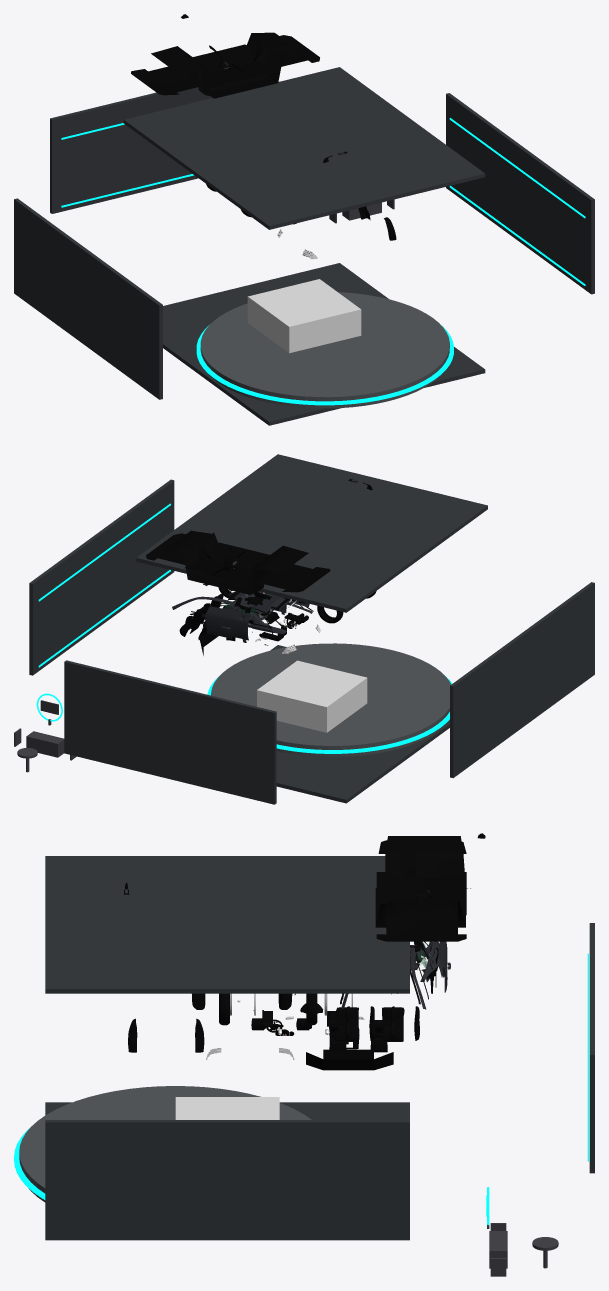
The model's file is garage-with-accord.glb.
3 views of the same model, one above another, from view 1: azimuth 30°, elevation 25°; view 2: azimuth 150°, elevation 25°; view 3: azimuth 270°, elevation 25° (orthographic). The views are drawn at different scales.
Visible parts, largest first — view 1: Ceiling, VehiclePlatform, WallLeft, WallRight, WallBack, Floor, Cube, Bottom, Bottom. inside, PlatformRing; view 2: Ceiling, WallBack, VehiclePlatform, WallLeft, WallRight, Cube, Floor, Bottom, Bottom. inside, Drive Door, PlatformRing, WorkDesk (+1 smaller); view 3: Ceiling, WallRight, VehiclePlatform, Bottom. inside, Bottom, Cube, Floor, Front BumperCover, WallBack, Cylinder.007, Tires, Cylinder.008 (+1 smaller).
Boxes of the visible parts, x1=… form: Ceiling: x1=123, y1=67, x2=485, y2=229; VehiclePlatform: x1=200, y1=292, x2=449, y2=408; WallLeft: x1=14, y1=198, x2=162, y2=399; WallRight: x1=446, y1=93, x2=594, y2=294; WallBack: x1=50, y1=87, x2=212, y2=213; Floor: x1=163, y1=263, x2=485, y2=425; Cube: x1=247, y1=279, x2=361, y2=353; Bottom: x1=131, y1=35, x2=319, y2=95; Bottom. inside: x1=151, y1=32, x2=302, y2=98; PlatformRing: x1=196, y1=324, x2=453, y2=405; Ceiling: x1=136, y1=454, x2=487, y2=612; WallBack: x1=64, y1=660, x2=276, y2=804; VehiclePlatform: x1=211, y1=643, x2=450, y2=756; WallLeft: x1=450, y1=582, x2=594, y2=778; WallRight: x1=29, y1=479, x2=174, y2=675; Cube: x1=257, y1=660, x2=367, y2=732; Floor: x1=270, y1=645, x2=449, y2=803; Bottom: x1=146, y1=533, x2=330, y2=592; Bottom. inside: x1=164, y1=530, x2=308, y2=594; Drive Door: x1=205, y1=604, x2=286, y2=640; PlatformRing: x1=207, y1=675, x2=452, y2=753; WorkDesk: x1=26, y1=731, x2=64, y2=757; Ceiling: x1=45, y1=857, x2=409, y2=993; WallRight: x1=45, y1=1120, x2=409, y2=1240; VehiclePlatform: x1=19, y1=1086, x2=311, y2=1202; Bottom. inside: x1=375, y1=836, x2=465, y2=927; Bottom: x1=376, y1=840, x2=466, y2=941; Cube: x1=175, y1=1097, x2=279, y2=1119; Floor: x1=45, y1=1102, x2=409, y2=1119; Front BumperCover: x1=306, y1=1049, x2=393, y2=1070; WallBack: x1=589, y1=923, x2=594, y2=1173; Cylinder.007: x1=336, y1=1007, x2=404, y2=1041; Tires: x1=219, y1=993, x2=317, y2=1025; Cylinder.008: x1=345, y1=1006, x2=419, y2=1040.
Bounding box in the file's own units: 12.1 × 7.8 × 11.15.
